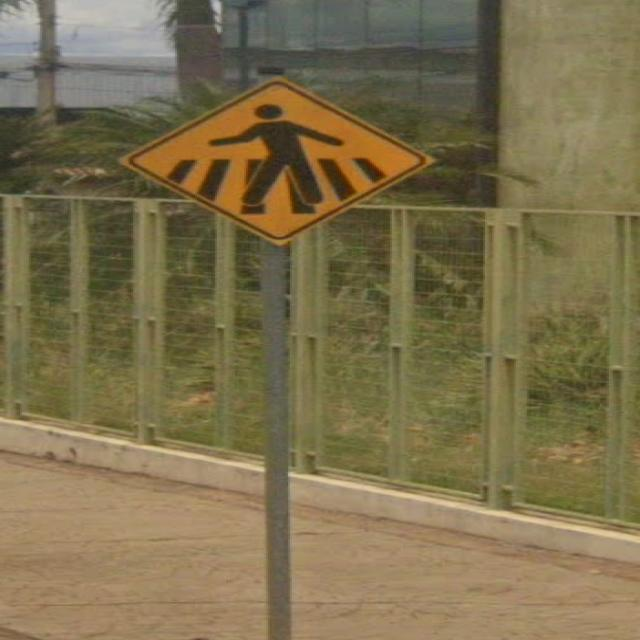pedestrian crossing: (105, 63, 466, 257)
